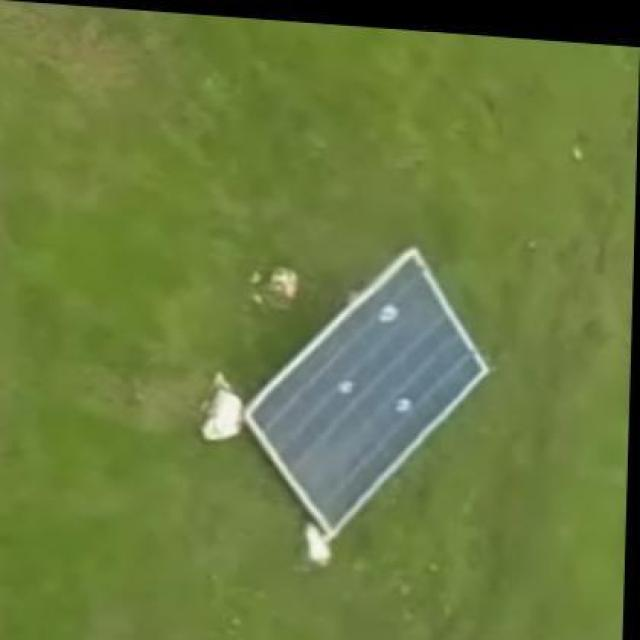soiled: (250, 244, 498, 529)
